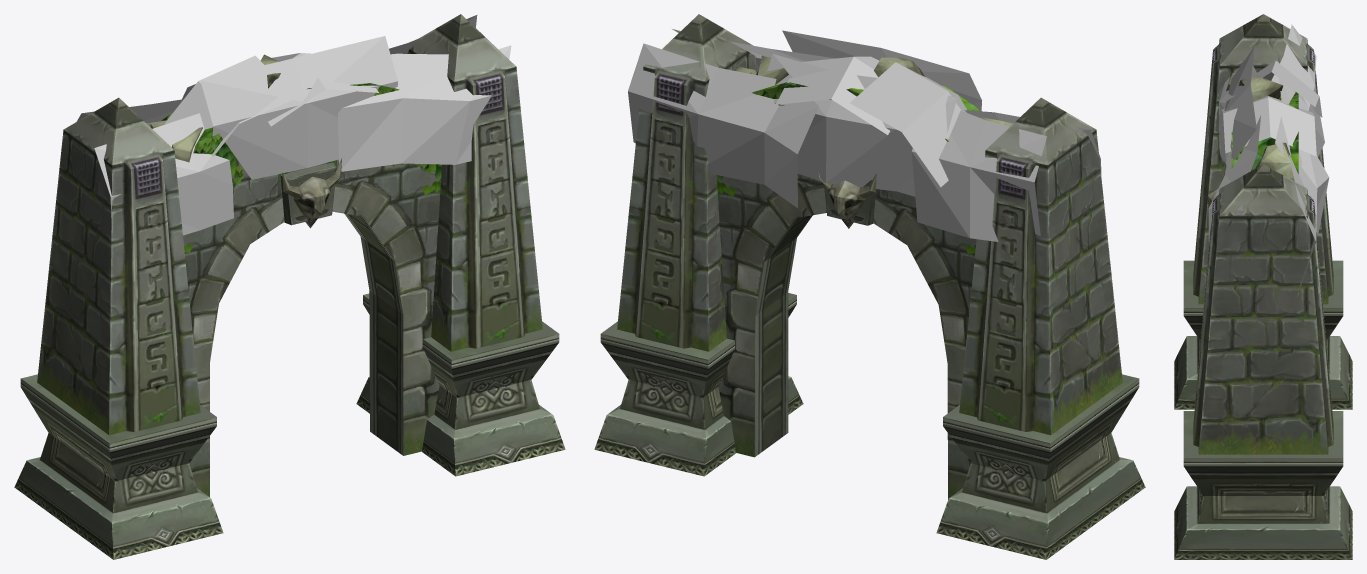
The model's file is ForsakenTemple_Gatedoor.FBX.
3 views of the same model, side by side, from view 1: azimuth 30°, elevation 25°; view 2: azimuth 150°, elevation 25°; view 3: azimuth 270°, elevation 25° (orthographic). The views are drawn at different scales.
Parts seen in each view (by area): view 1: ForsakenTemple_Gatedoor; view 2: ForsakenTemple_Gatedoor; view 3: ForsakenTemple_Gatedoor.
Boxes of the visible parts, x1,y1,x2,y2 form: ForsakenTemple_Gatedoor: [14, 14, 565, 559]; ForsakenTemple_Gatedoor: [594, 14, 1145, 559]; ForsakenTemple_Gatedoor: [1174, 14, 1352, 559].
Bounding box in the file's own units: 319 × 281 × 121.
